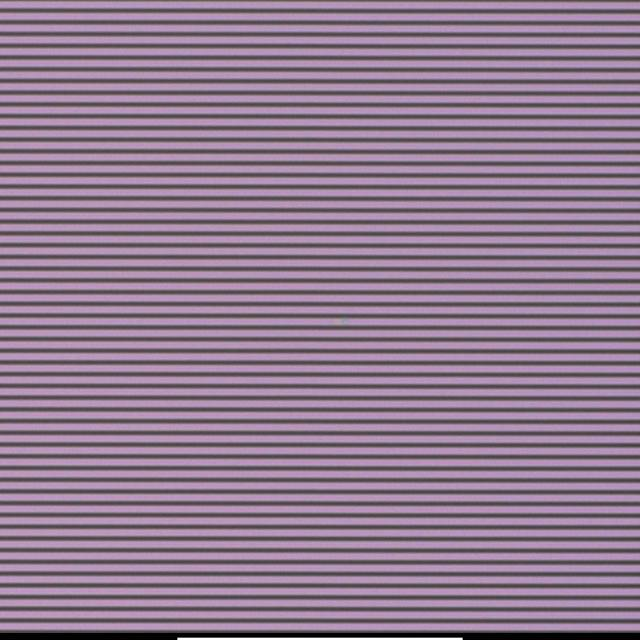nonvisual: (333, 312, 357, 333)
